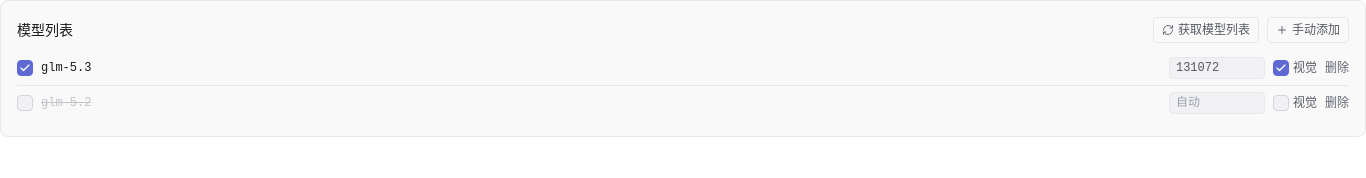
Scenario: ProviderModelList › 窗口写入失败 → 内联错误展示
The width and height of the screenshot is (1366, 178).
Replace the text in the field named "上下文窗口 glm-5.3" with "999999": (1217, 68) [1169,57,1265,79]
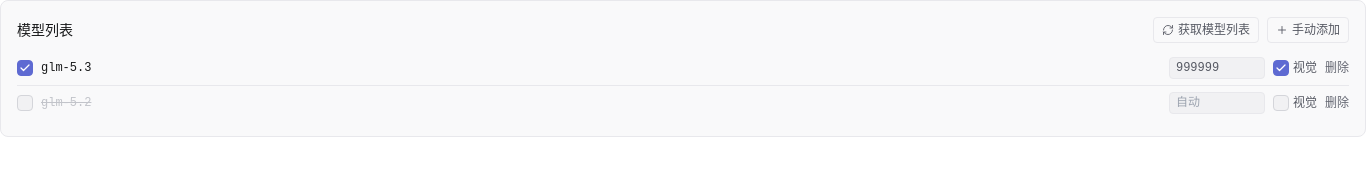
Leave the field named "上下文窗口 glm-5.3", box [1169,57,1265,79]
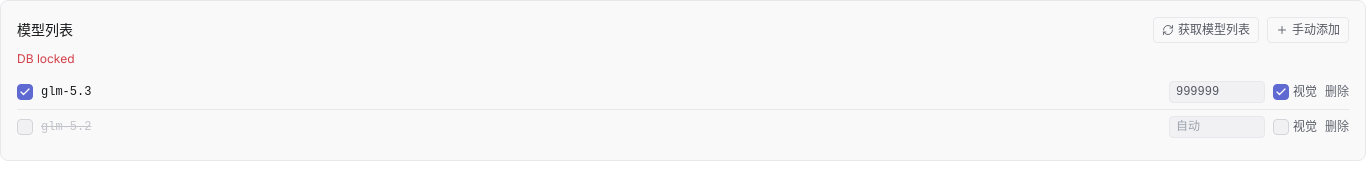
Expected: the text "DB locked" is shown, [17,51,74,66]
